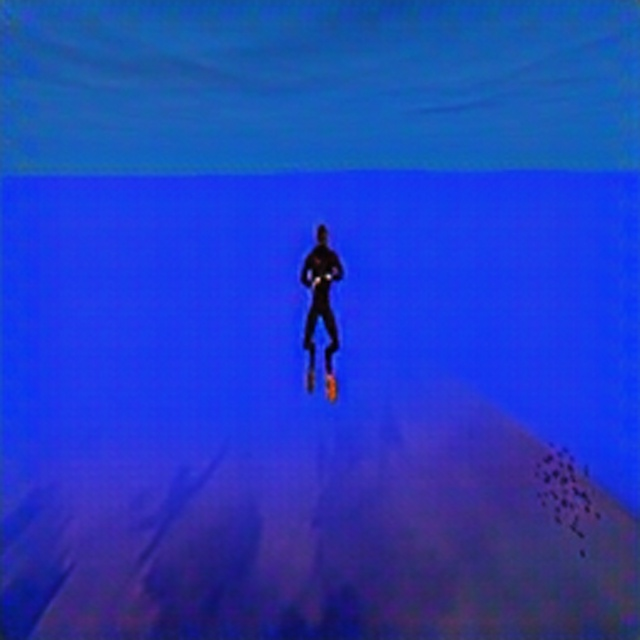diver: (297, 220, 346, 402)
